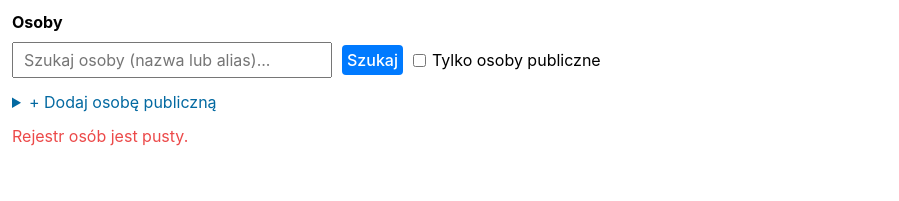
Test: adds a public person and explains a name that is already in the registry
Click the heading "+ Dodaj osobę publiczną".
click(123, 102)  # box [29,92,216,112]
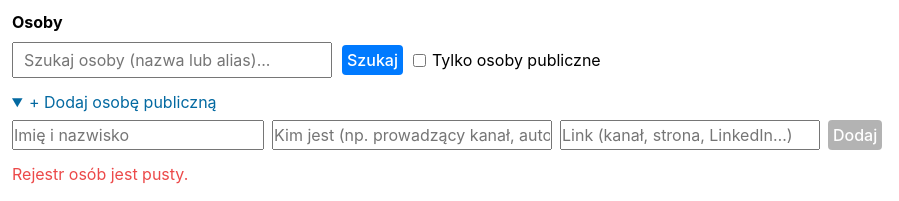
Type "Szewko" into the field with placeholder "Imię i nazwisko".
click(138, 135); type("Szewko")  # box [12,120,264,150]
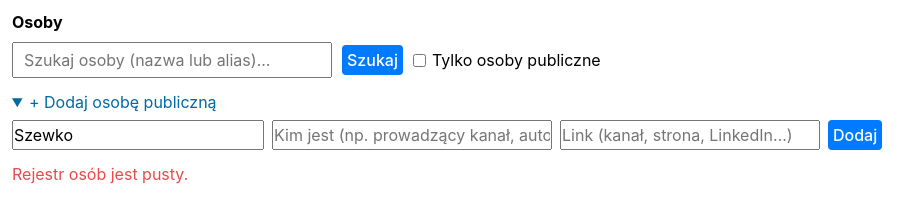
Type "prowadzący kanał" into the field with placeholder "Kim jest (np. prowadzący kanał, autor kursu)".
click(412, 135); type("prowadzący kanał")  # box [272,120,552,150]
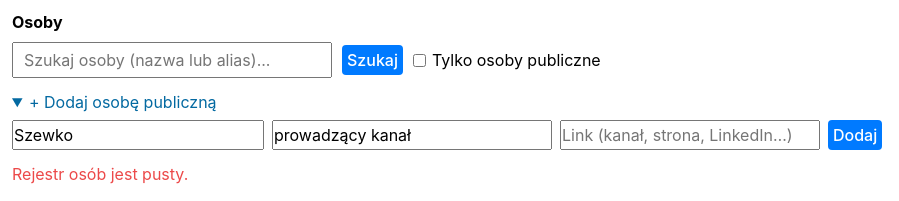
Click the button "Dodaj".
click(855, 135)  # box [828,120,882,150]
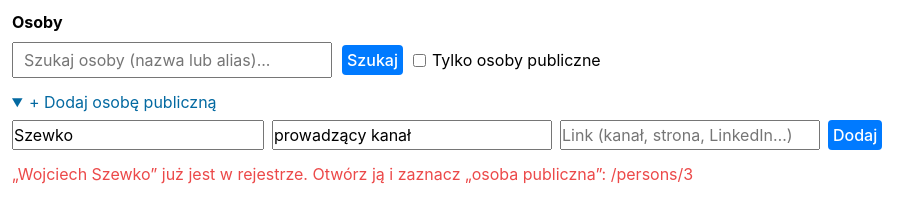
Expected: the text "/persons/3" is shown, [12,164,693,184]
